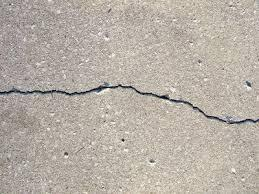crack: (0, 85, 259, 124)
